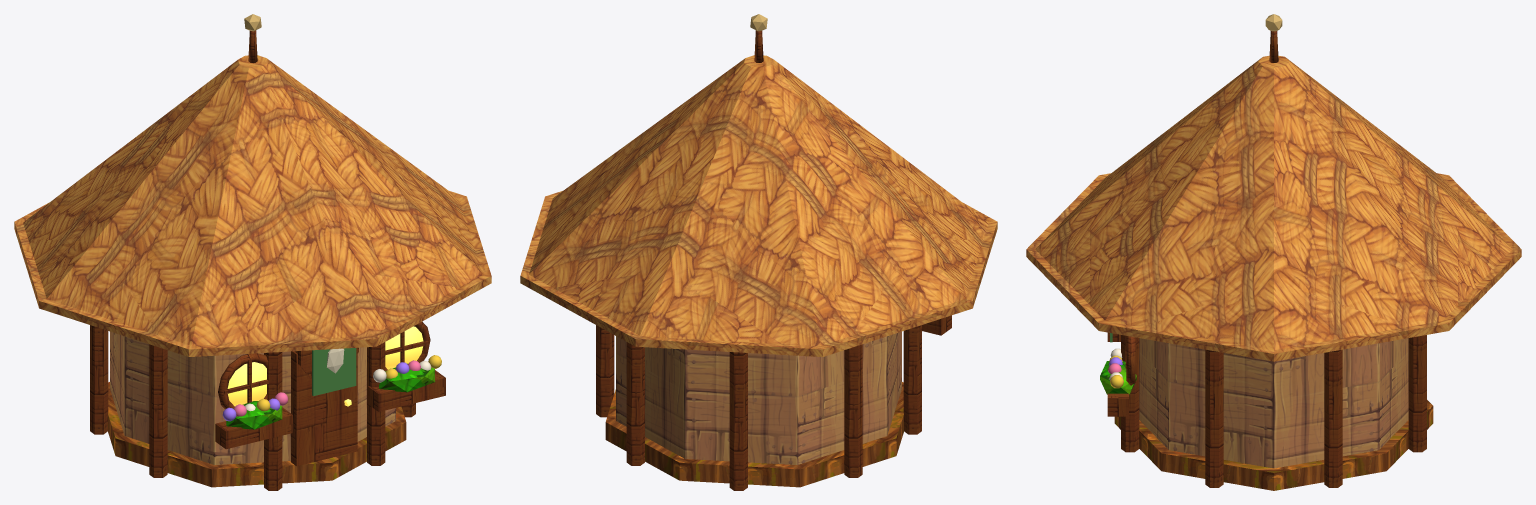
Rendered from hut.glb.
The picture shows the model from 3 angles, left to right: view 1: azimuth 30°, elevation 25°; view 2: azimuth 150°, elevation 25°; view 3: azimuth 270°, elevation 25°; orthographic projection.
Parts seen in each view (by area): view 1: hut; view 2: hut; view 3: hut.
Part boxes in pixels (box(x1,y1,x2,y2)): hut: box(14, 14, 491, 490); hut: box(520, 14, 997, 490); hut: box(1026, 14, 1521, 490).
Size of the model in its own units: 7 by 6.39 by 7.
Materials: 13 (5 with a texture image).
